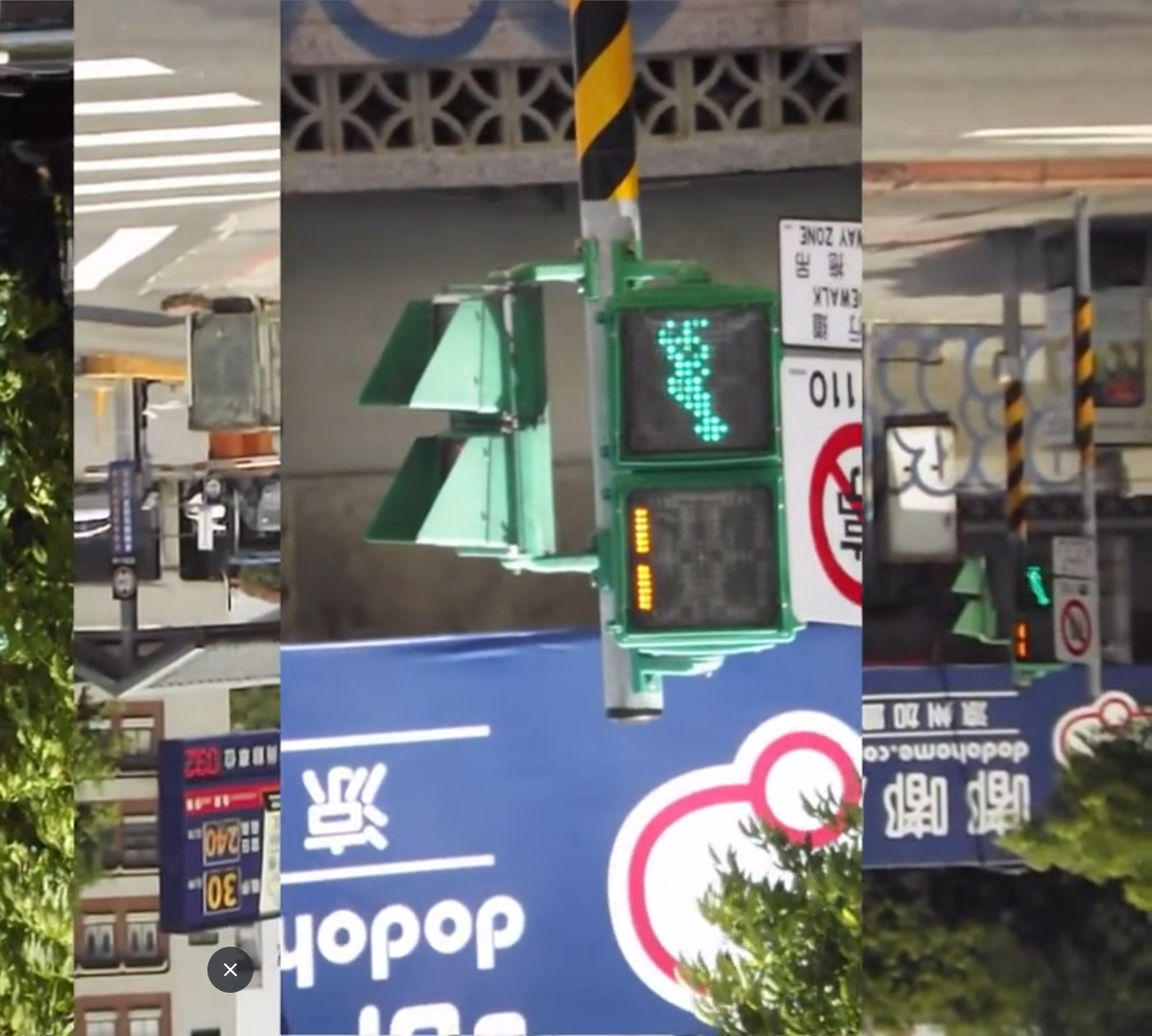green_light: (611, 300, 789, 644), (1013, 563, 1056, 663)
